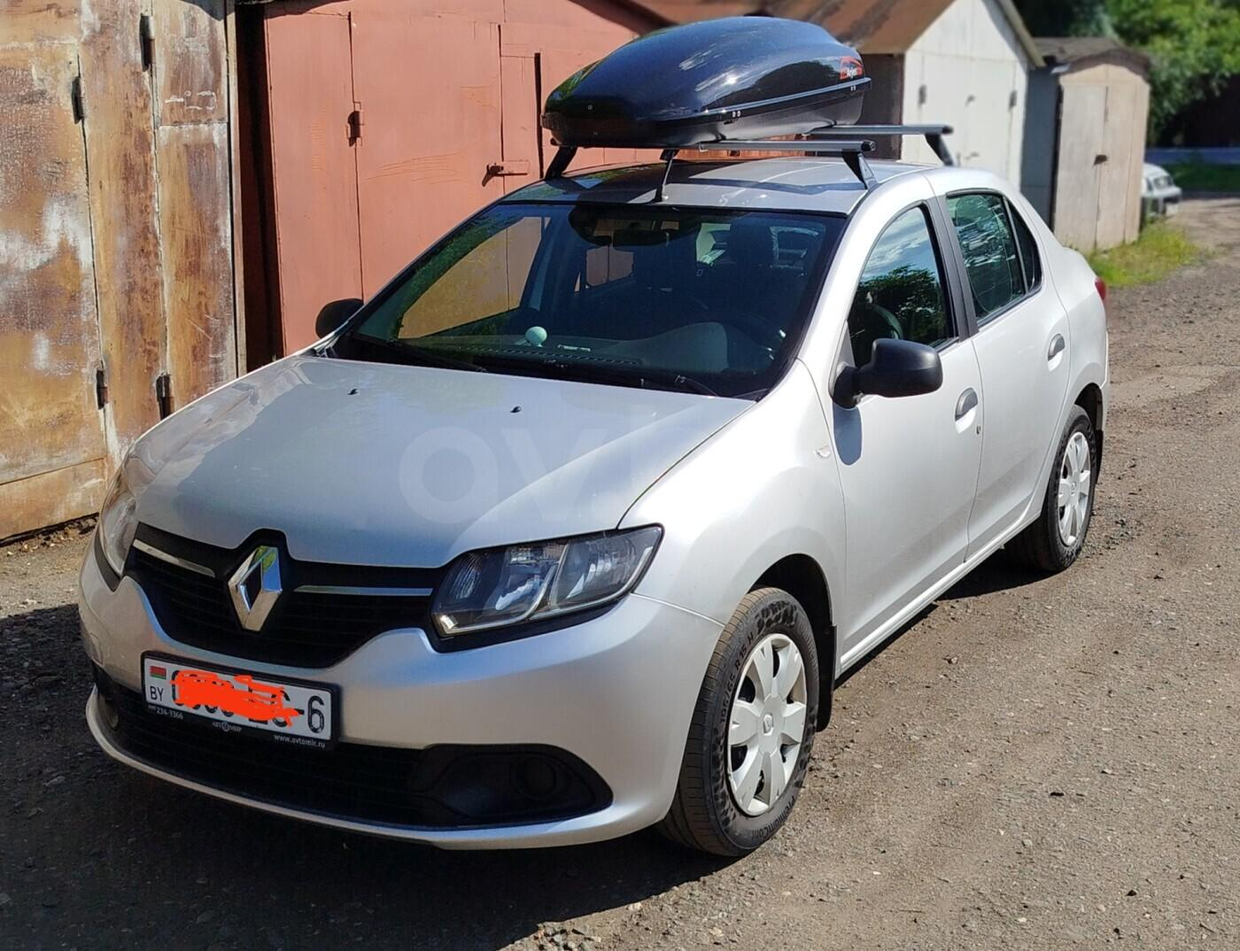Logan_2013-2018: (65, 145, 1124, 873)
